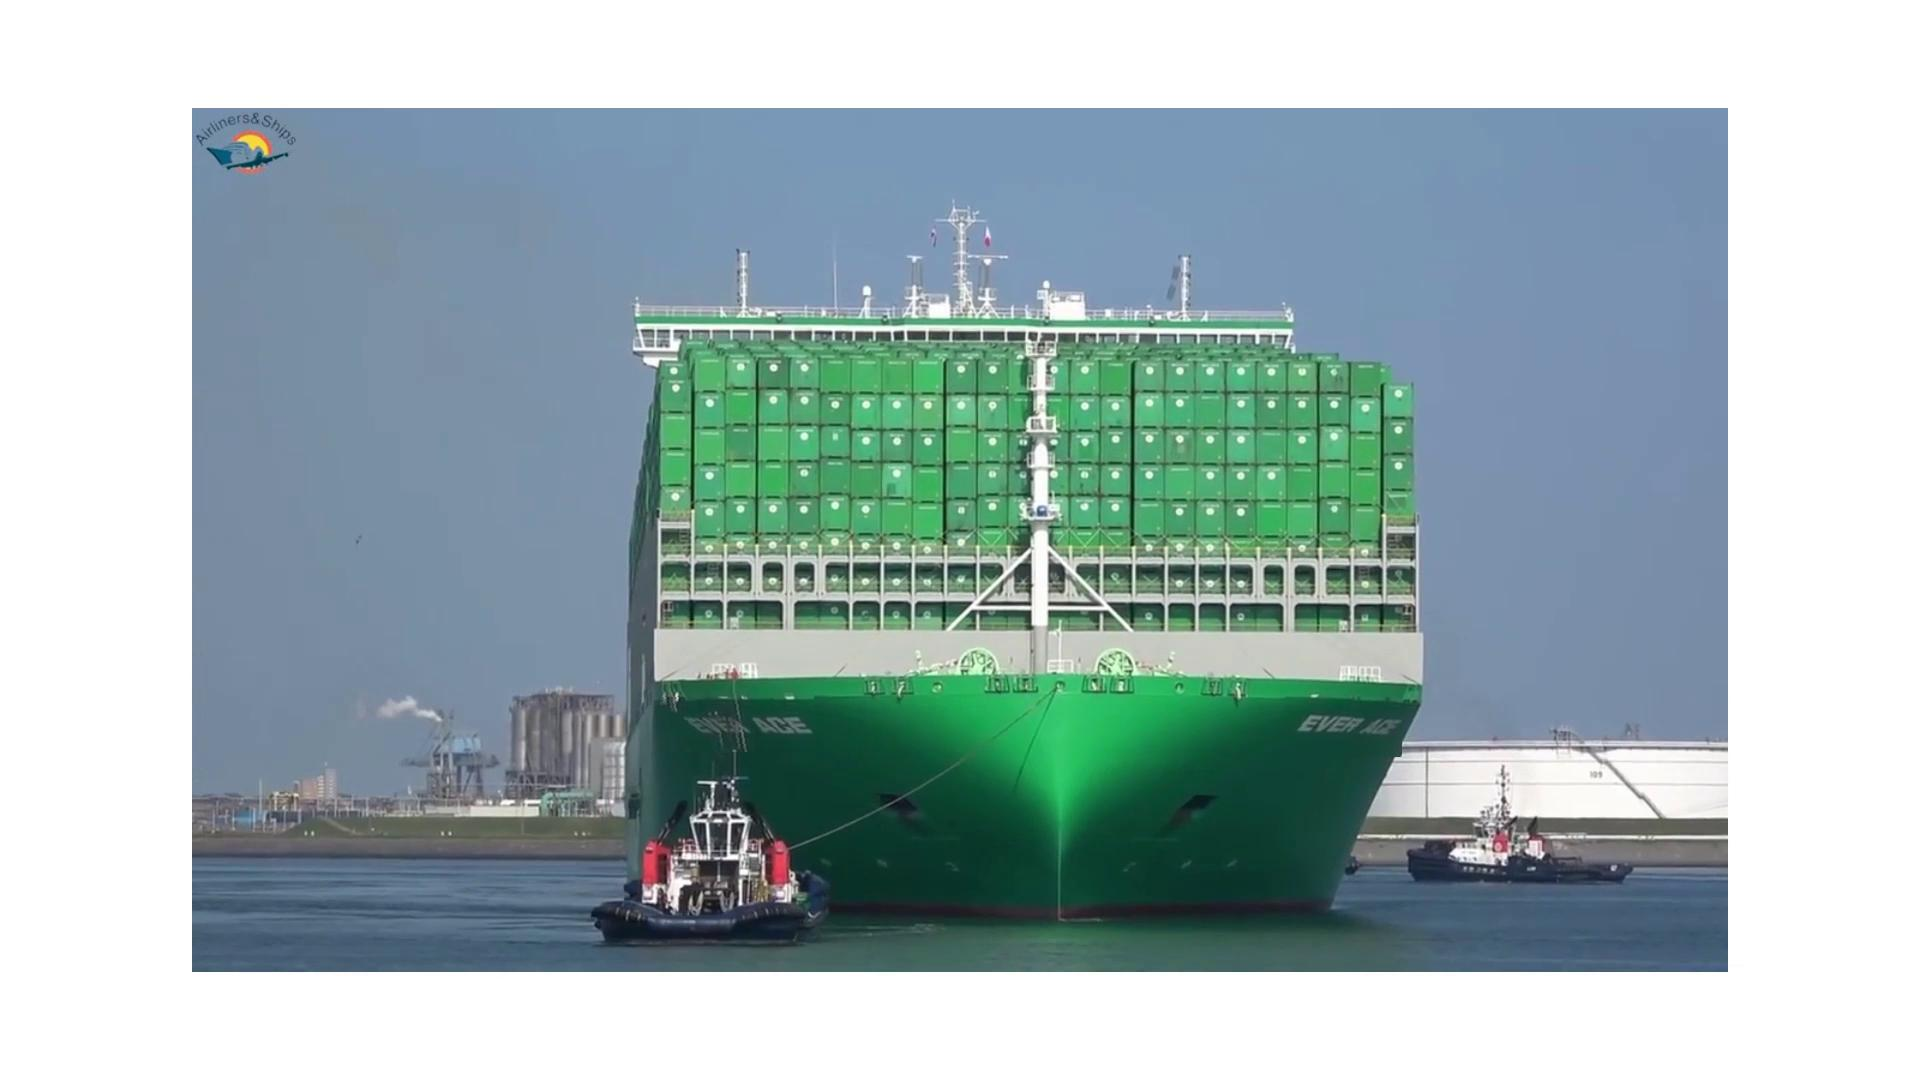OCR: (659, 688, 814, 752), (1284, 686, 1402, 758)
